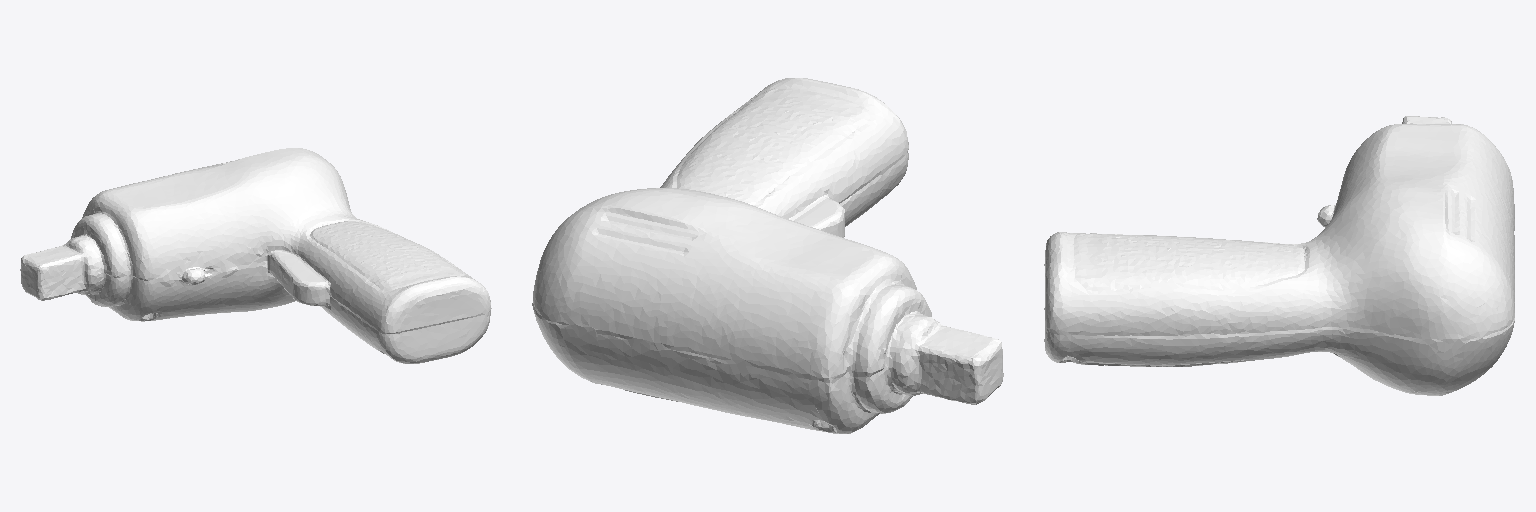
The robot description file, URDF, robot "b_toy_airplane":
<robot name="b_toy_airplane">
    <link name="base_link">
        <visual>
            <origin xyz="0.0 -0.0 0.0" rpy="0.0 0.0 0.0" />
            <geometry>
                <mesh filename="b_toy_airplane/textured.obj" scale="1 1 1" />
            </geometry>
            <material name="texture">
                <color rgba="1.0 1.0 1.0 1.0" />
            </material>
        </visual>
        <collision>
            <origin xyz="0.0 -0.0 0.0" rpy="0.0 0.0 0.0" />
            <geometry>
                <mesh filename="b_toy_airplane/textured_coacd_0.stl" scale="1 1 1" />
            </geometry>
        </collision>
        <collision>
            <origin xyz="0.0 -0.0 0.0" rpy="0.0 0.0 0.0" />
            <geometry>
                <mesh filename="b_toy_airplane/textured_coacd_1.stl" scale="1 1 1" />
            </geometry>
        </collision>
        <collision>
            <origin xyz="0.0 -0.0 0.0" rpy="0.0 0.0 0.0" />
            <geometry>
                <mesh filename="b_toy_airplane/textured_coacd_2.stl" scale="1 1 1" />
            </geometry>
        </collision>
        <collision>
            <origin xyz="0.0 -0.0 0.0" rpy="0.0 0.0 0.0" />
            <geometry>
                <mesh filename="b_toy_airplane/textured_coacd_3.stl" scale="1 1 1" />
            </geometry>
        </collision>
        <collision>
            <origin xyz="0.0 -0.0 0.0" rpy="0.0 0.0 0.0" />
            <geometry>
                <mesh filename="b_toy_airplane/textured_coacd_4.stl" scale="1 1 1" />
            </geometry>
        </collision>
        <inertial>
            <mass value="0.114" />
            <inertia ixx="1e-3" ixy="0.0" ixz="0.0" iyy="1e-3" iyz="0.0" izz="1e-3" />
        </inertial>
    </link>
</robot>

--- Render facts (derived) ---
Views: 3 orthographic renders of the robot side by side, from view 1: azimuth 30°, elevation 25°; view 2: azimuth 150°, elevation 25°; view 3: azimuth 270°, elevation 25°.
Robot: b_toy_airplane — 1 links, 0 joints (none); root link base_link; default pose: all joints at 0.
Links seen in each view (by area): view 1: base_link; view 2: base_link; view 3: base_link.
Link boxes in pixels (box(x1,y1,x2,y2)): base_link: box(20, 148, 491, 363); base_link: box(532, 78, 1003, 433); base_link: box(1044, 116, 1514, 395).
Bounding box of the posed robot: 0.1396 × 0.1413 × 0.0575 m (x, y, z).
1 mesh visuals loaded from 1 distinct referenced files (1 OBJ).